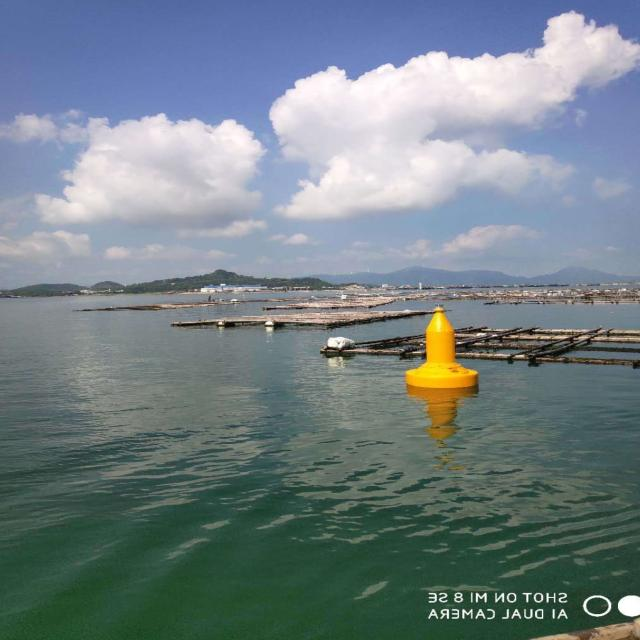buoy: (400, 301, 479, 393)
